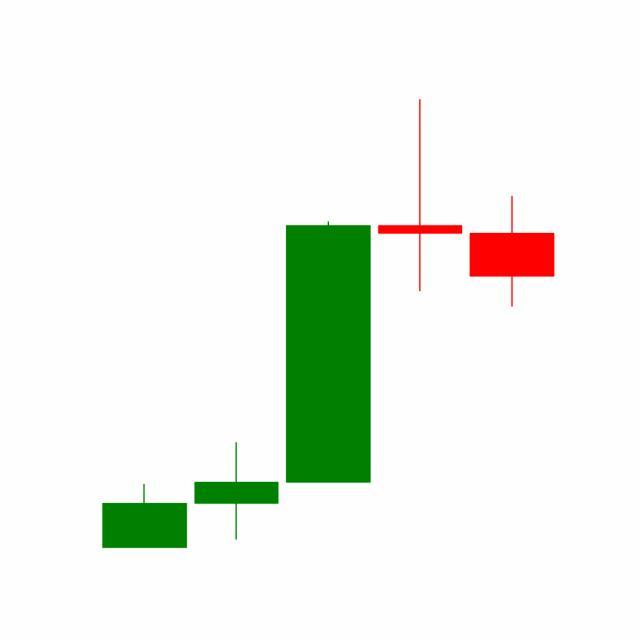Spinning Top: (374, 98, 468, 295)
